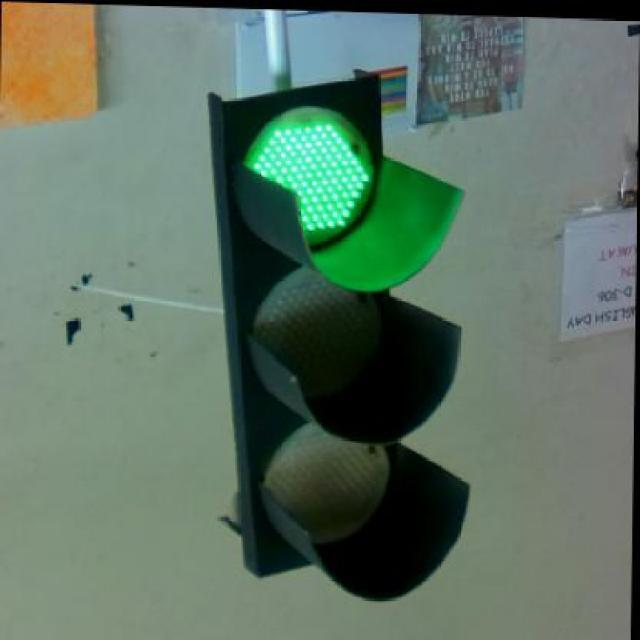traffic light: (207, 71, 472, 601)
